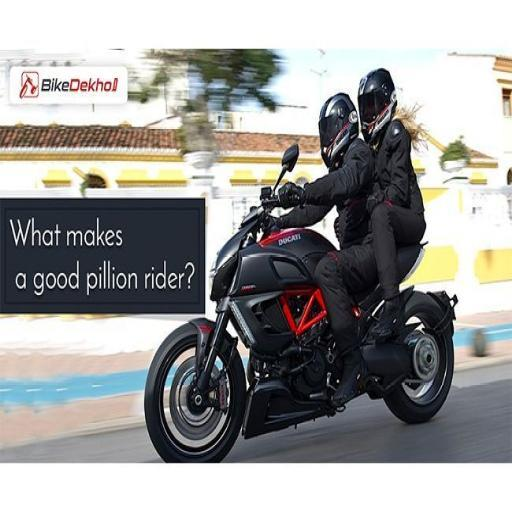helmet: (308, 82, 362, 177)
